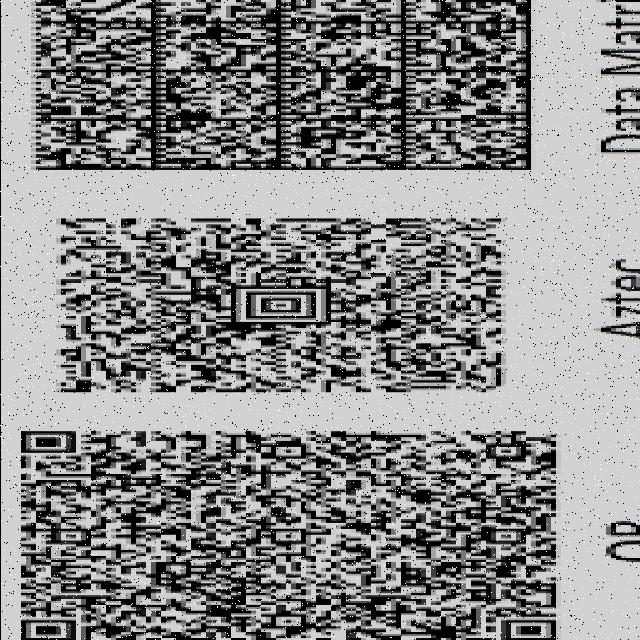datamatrix: (10, 0, 555, 178)
